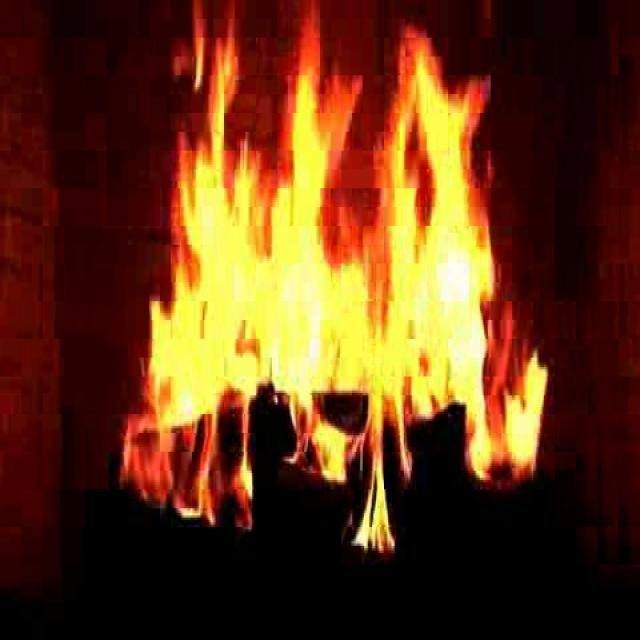fire: (144, 40, 533, 526)
